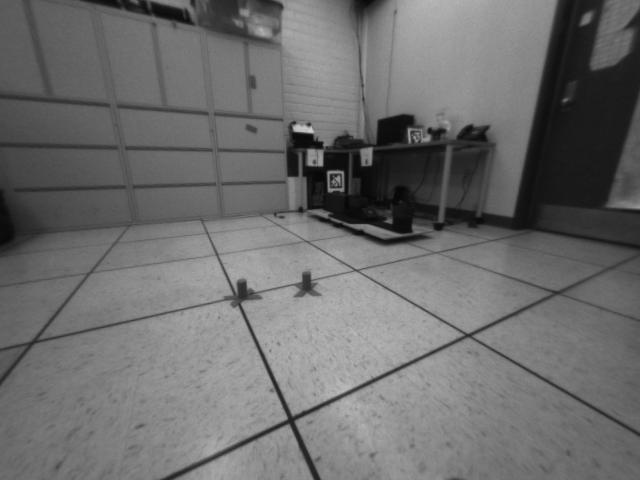X: (223, 276, 261, 308), (291, 268, 323, 300)
